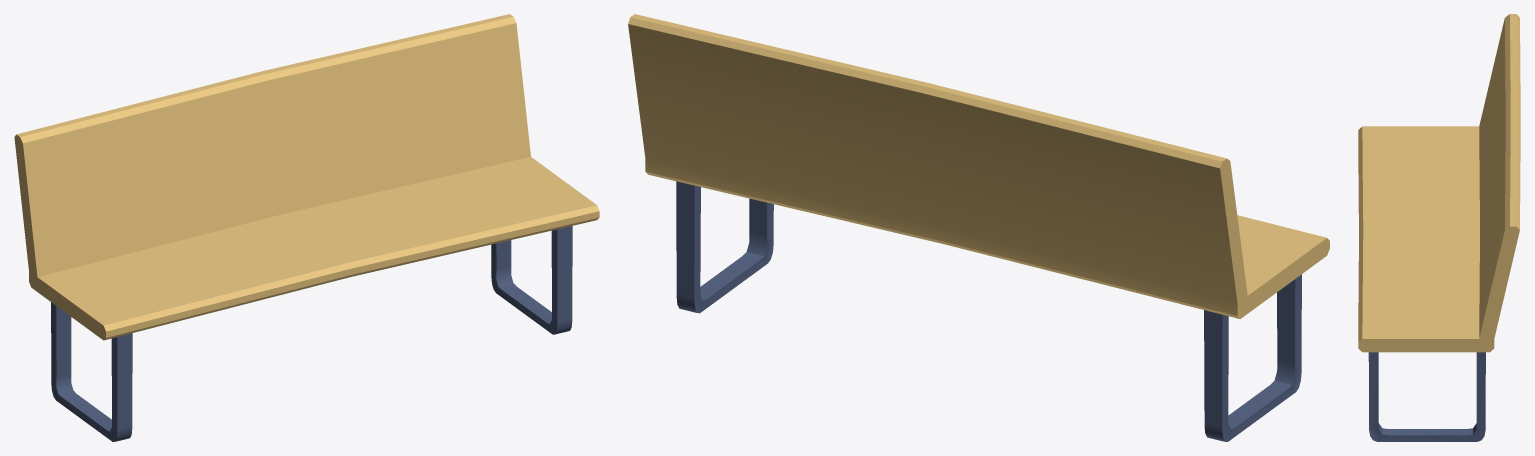
The model's file is bench1.fbx.
3 renders of one model, left to right at view 1: azimuth 30°, elevation 25°; view 2: azimuth 150°, elevation 25°; view 3: azimuth 270°, elevation 25°, orthographic. The views are drawn at different scales.
Parts seen in each view (by area): view 1: Cube.003; view 2: Cube.003; view 3: Cube.003.
Part boxes in pixels (x1,y1,x2,y2): Cube.003: (14,14,599,441); Cube.003: (628,14,1329,441); Cube.003: (1358,14,1520,441).
Bounding box in the file's own units: 4.28 × 2.13 × 1.38.
